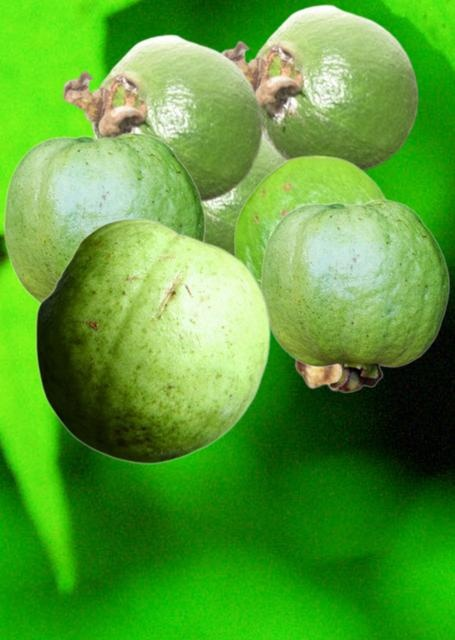guava: (35, 218, 269, 463), (260, 199, 449, 392), (233, 154, 387, 388), (3, 132, 205, 303), (61, 33, 263, 202), (221, 3, 419, 171), (204, 141, 282, 252)
